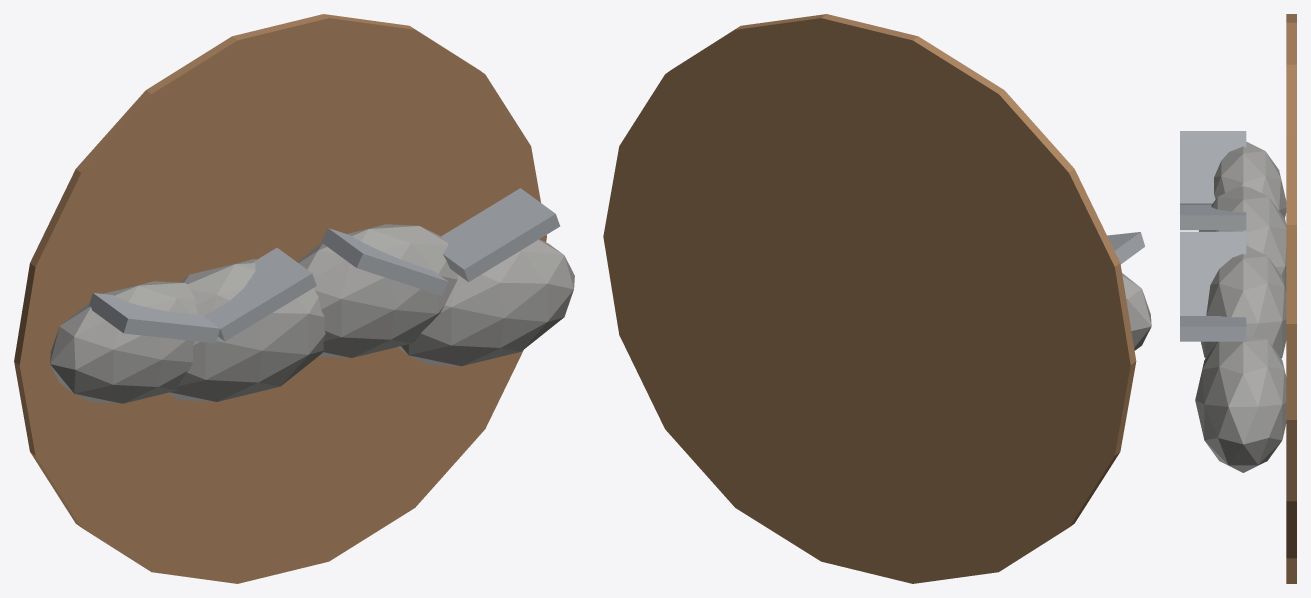
File: 02_local_prop_cluster.glb
3 views of the same model, side by side, from view 1: azimuth 30°, elevation 25°; view 2: azimuth 150°, elevation 25°; view 3: azimuth 270°, elevation 25° (orthographic). The views are drawn at different scales.
Visible parts, largest first — view 1: scatter_base, scrap_rock_2, scrap_rock_3, scrap_rock_1, scrap_rock_0, scrap_plate_3, scrap_plate_1, scrap_plate_0, scrap_plate_2; view 2: scatter_base, scrap_rock_0, scrap_plate_0; view 3: scrap_rock_3, scatter_base, scrap_rock_2, scrap_plate_2, scrap_plate_0, scrap_rock_1, scrap_rock_0, scrap_plate_3, scrap_plate_1.
Boxes of the visible parts, left/top/right/bottom form: scatter_base: left=14, top=14, right=546, bottom=583; scrap_rock_2: left=297, top=224, right=457, bottom=357; scrap_rock_3: left=397, top=239, right=574, bottom=366; scrap_rock_1: left=166, top=259, right=325, bottom=401; scrap_rock_0: left=50, top=281, right=197, bottom=403; scrap_plate_3: left=440, top=188, right=560, bottom=282; scrap_plate_1: left=203, top=248, right=316, bottom=341; scrap_plate_0: left=88, top=293, right=219, bottom=343; scrap_plate_2: left=321, top=228, right=448, bottom=295; scatter_base: left=603, top=14, right=1136, bottom=583; scrap_rock_0: left=1122, top=273, right=1151, bottom=350; scrap_plate_0: left=1107, top=232, right=1144, bottom=264; scrap_rock_3: left=1195, top=335, right=1286, bottom=472; scatter_base: left=1286, top=14, right=1296, bottom=583; scrap_rock_2: left=1201, top=246, right=1286, bottom=358; scrap_plate_2: left=1180, top=231, right=1246, bottom=315; scrap_plate_0: left=1180, top=131, right=1246, bottom=204; scrap_rock_1: left=1199, top=186, right=1286, bottom=292; scrap_rock_0: left=1214, top=141, right=1286, bottom=218; scrap_plate_3: left=1180, top=316, right=1246, bottom=341; scrap_plate_1: left=1180, top=204, right=1246, bottom=230.
Bounding box in the file's own units: 1.92 × 1.87 × 0.3875.
